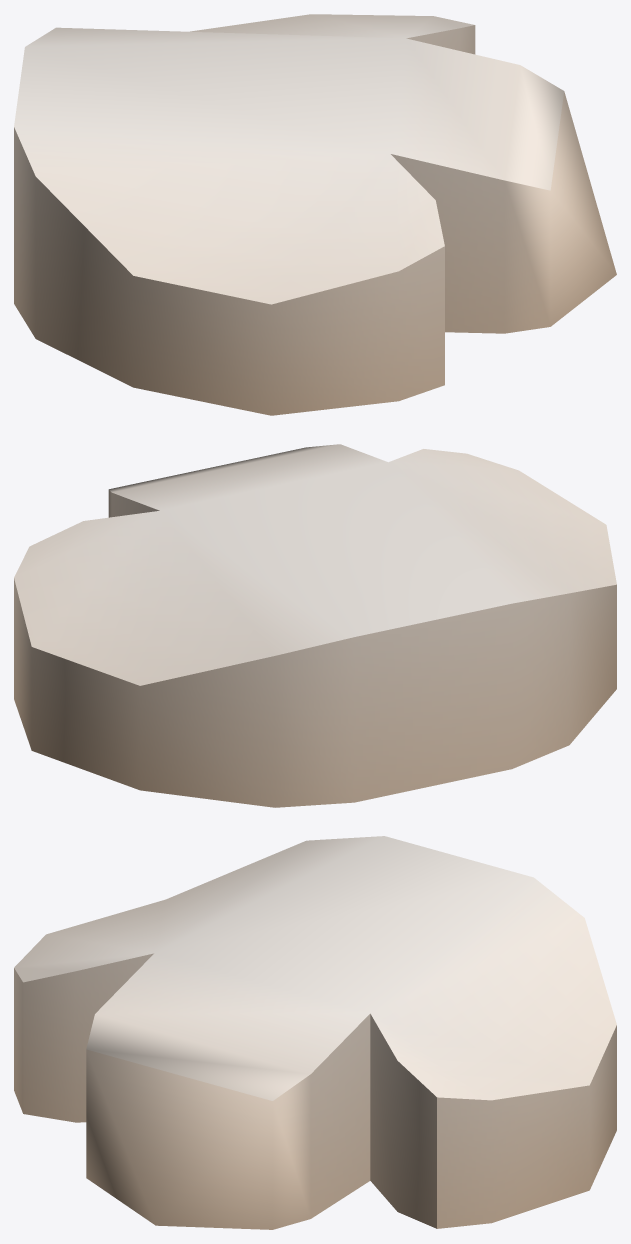
The model's file is food_ingredient_mushroom_gib_C.gltf.
The picture shows the model from 3 angles, top to bottom: view 1: azimuth 30°, elevation 25°; view 2: azimuth 150°, elevation 25°; view 3: azimuth 270°, elevation 25°; orthographic projection. The views are drawn at different scales.
Parts seen in each view (by area): view 1: food_ingredient_mushroom_pieces.001; view 2: food_ingredient_mushroom_pieces.001; view 3: food_ingredient_mushroom_pieces.001.
Part boxes in pixels (x1,y1,x2,y2): food_ingredient_mushroom_pieces.001: [14, 14, 616, 415]; food_ingredient_mushroom_pieces.001: [14, 444, 616, 807]; food_ingredient_mushroom_pieces.001: [14, 836, 616, 1229].
Bounding box in the file's own units: 0.1359 × 0.045 × 0.147.
1 material, 1 textured.
